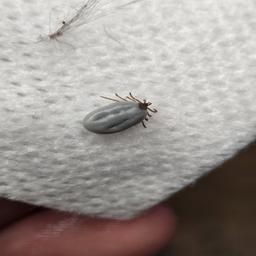Ixodes scapularis: (82, 94, 157, 135)
